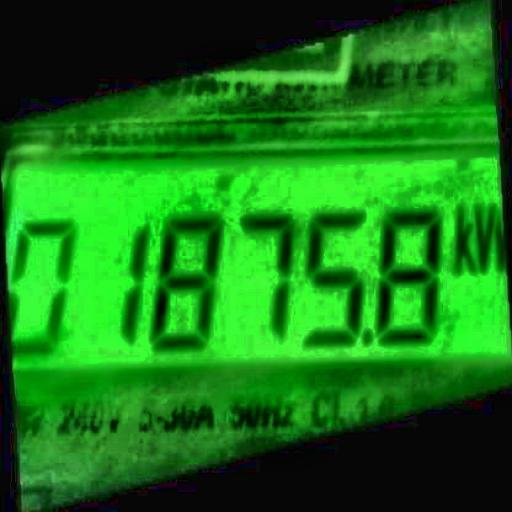DISPLAY_REGION: (0, 104, 511, 382)
SERIAL_REGION: (0, 193, 507, 356)
